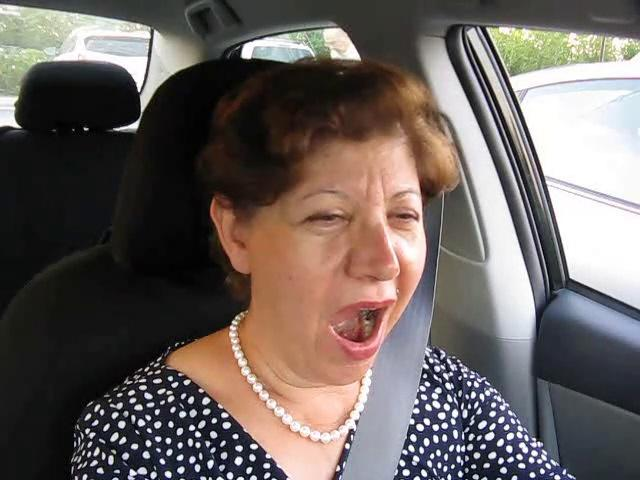yawn: (325, 297, 398, 362)
